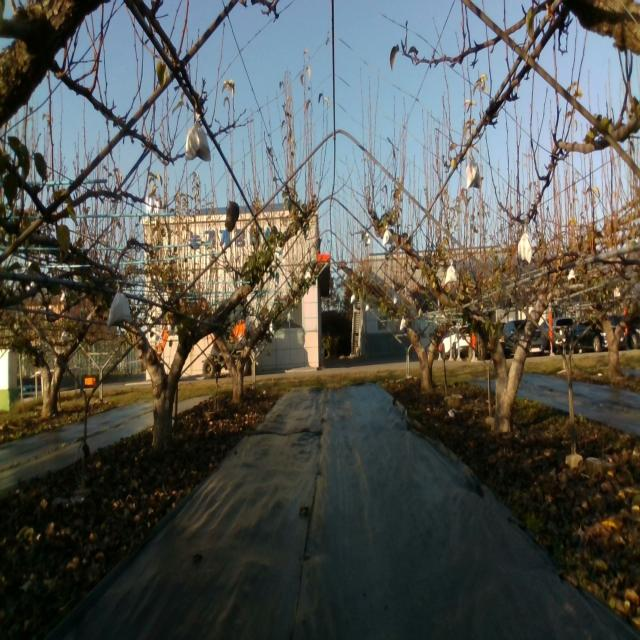pearbags: (185, 111, 211, 164), (107, 286, 133, 332), (517, 232, 533, 266), (466, 156, 480, 190), (444, 257, 458, 287)
